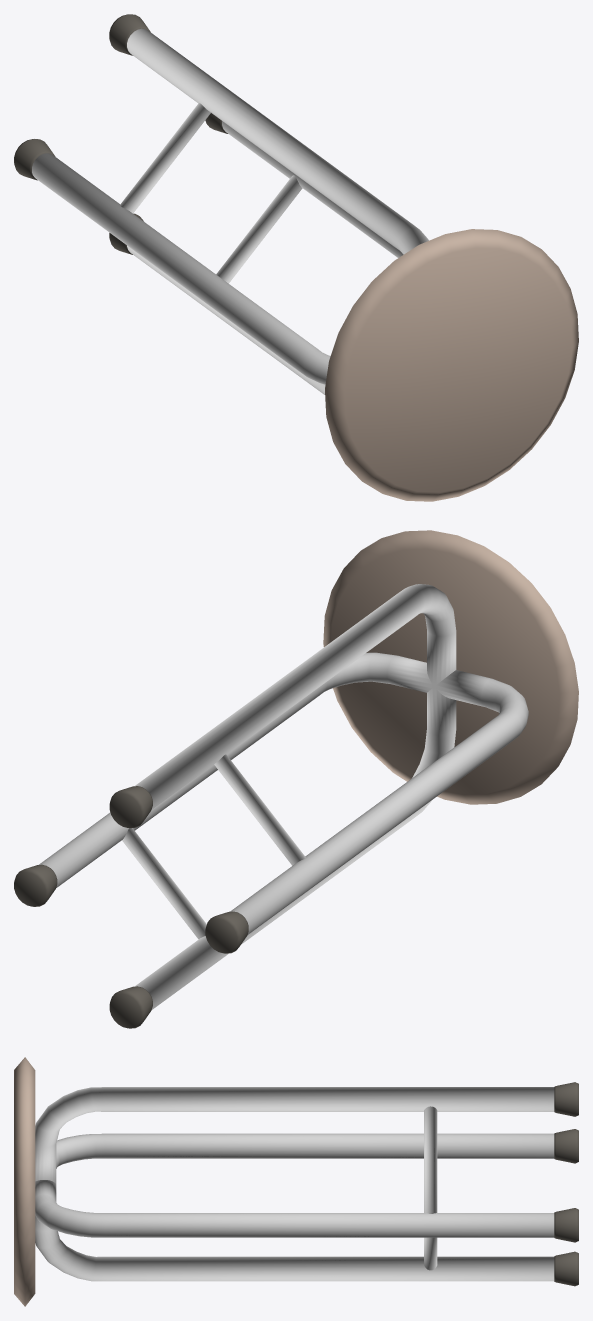
The model's file is BarChair.fbx.
3 renders of one model, top to bottom at view 1: azimuth 30°, elevation 25°; view 2: azimuth 150°, elevation 25°; view 3: azimuth 270°, elevation 25°, orthographic. The views are drawn at different scales.
Parts seen in each view (by area): view 1: BarChair; view 2: BarChair; view 3: BarChair.
Boxes of the visible parts, x1,y1,x2,y2 form: BarChair: (14, 14, 578, 501); BarChair: (14, 530, 578, 1028); BarChair: (14, 1057, 578, 1306).
Size of the model in its own units: 210 by 210 by 475.
